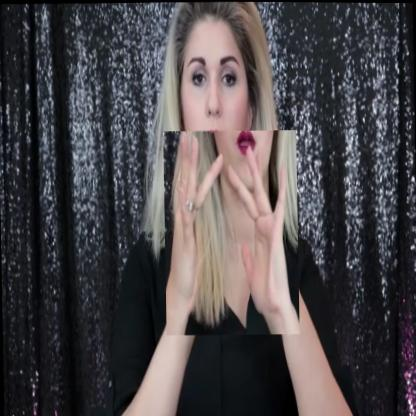Internet: (163, 128, 299, 335)
